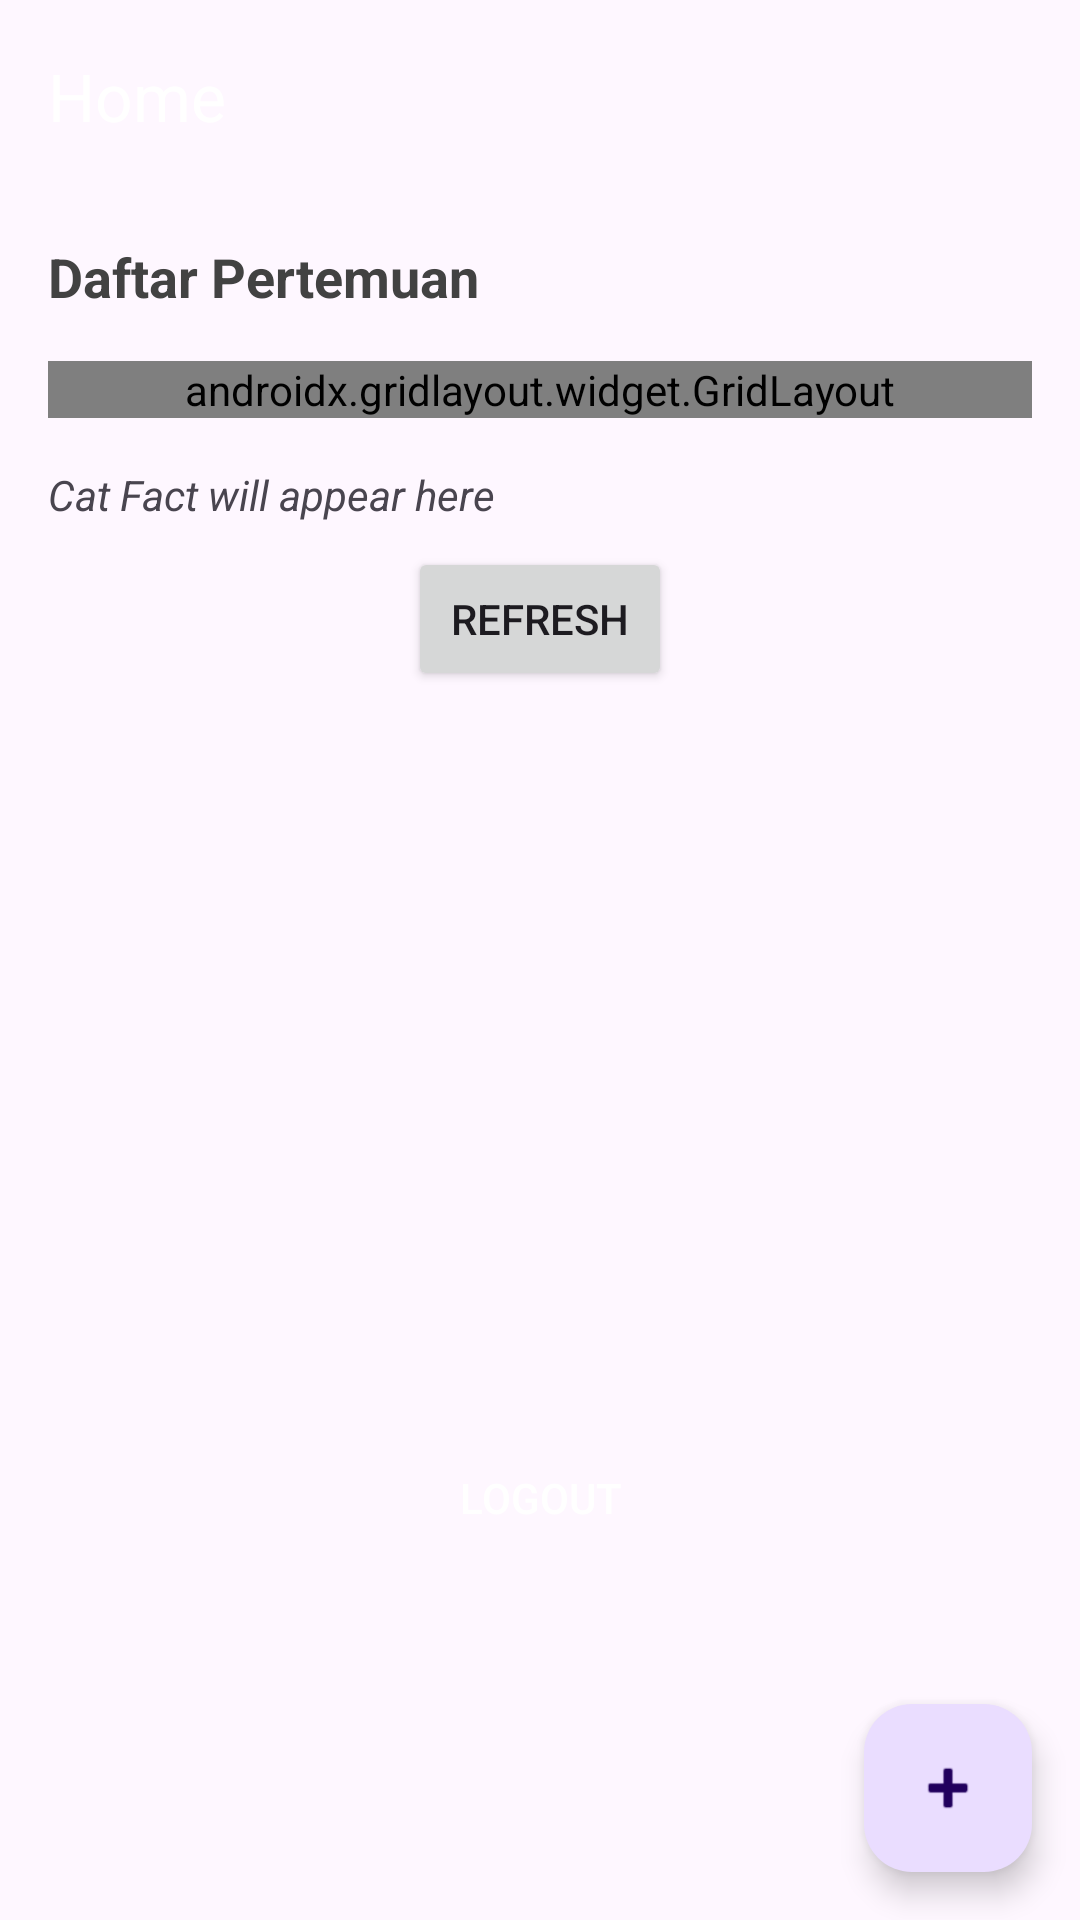

Locate icon controls on the screen. Image size 1080w x 1920h, boxes as (x1, y1, x2, y2).
Add Note: (864, 1704, 1032, 1872)
